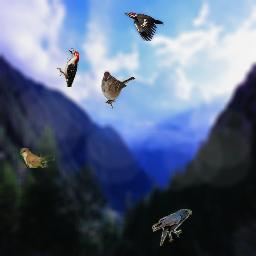Crow: (152, 209, 192, 246)
Cuckoo: (19, 148, 55, 168)
Sparrow: (101, 70, 136, 110)
Woodpecker: (124, 12, 164, 41), (56, 47, 79, 87)
